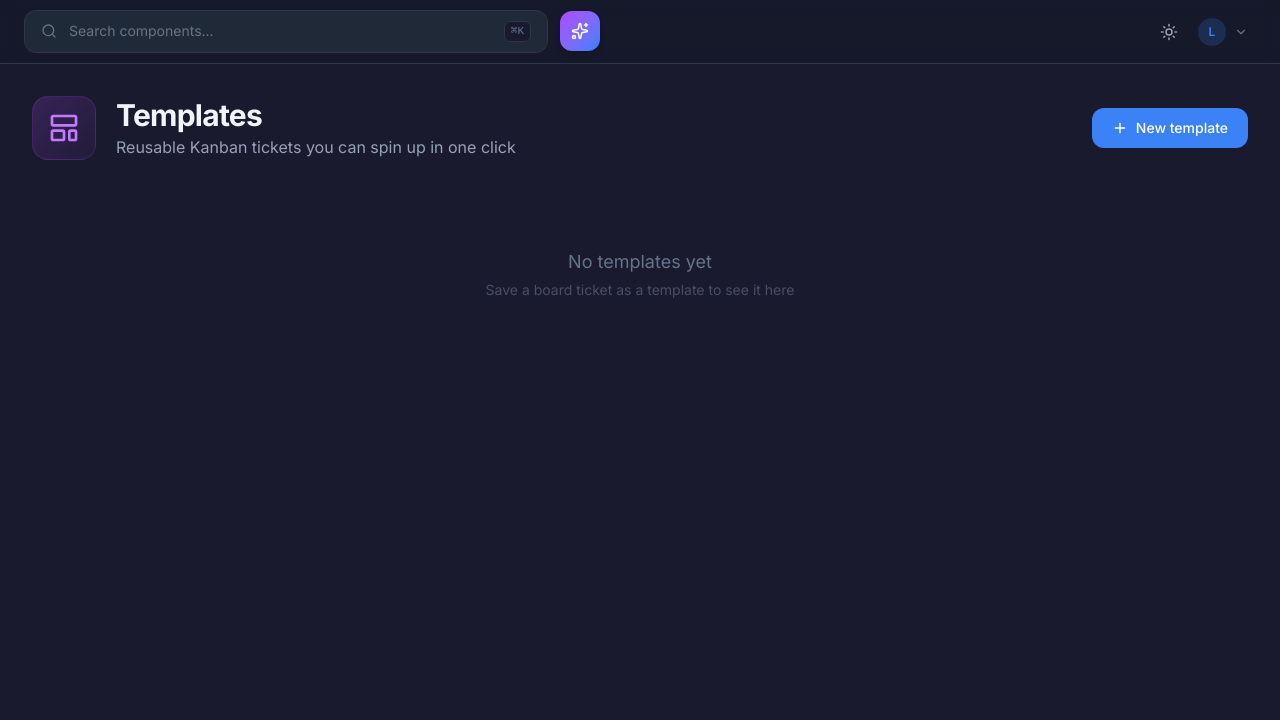
TemplatesPage › + New template flow › renders the new card in the grid after a successful insert
Expected: the text "No templates yet" is shown, [568,251,712,272]
Step 1. Click the button "New template" → [1170, 128], box [1092,108,1248,148]
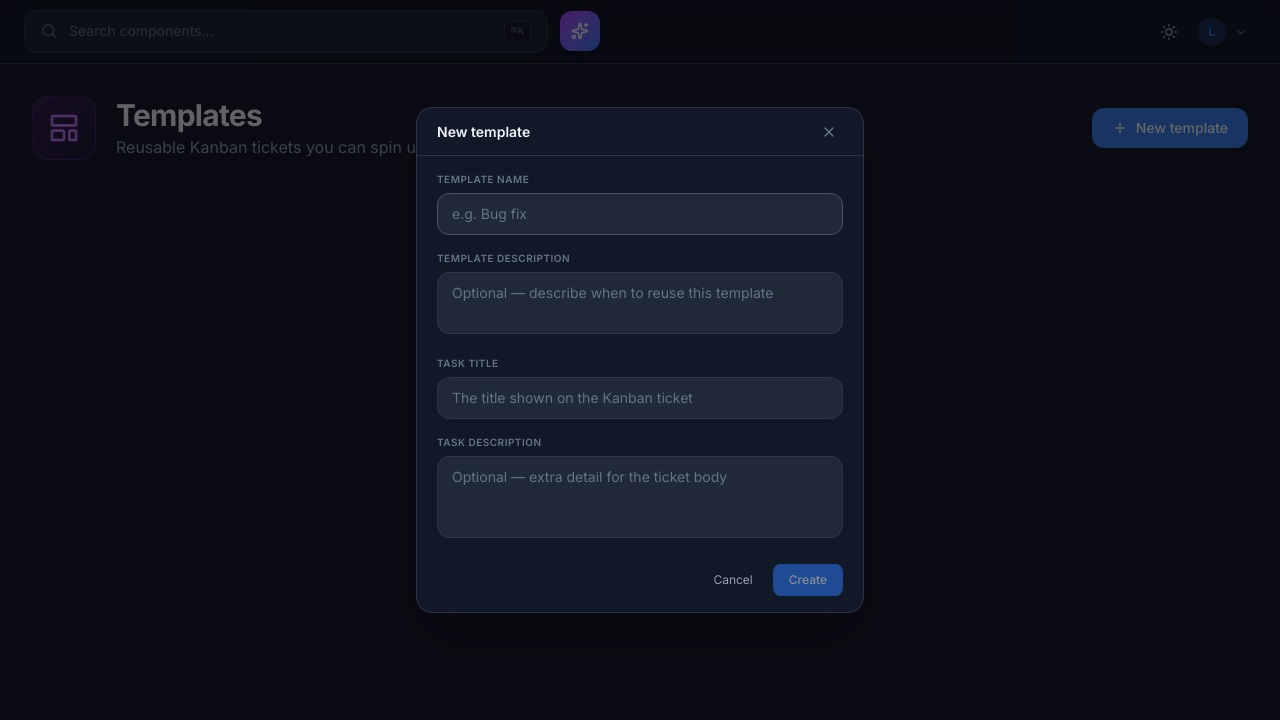
Step 2. Type "Fresh template" into the field labelled "Template name" → [640, 214], box [437,193,843,235]
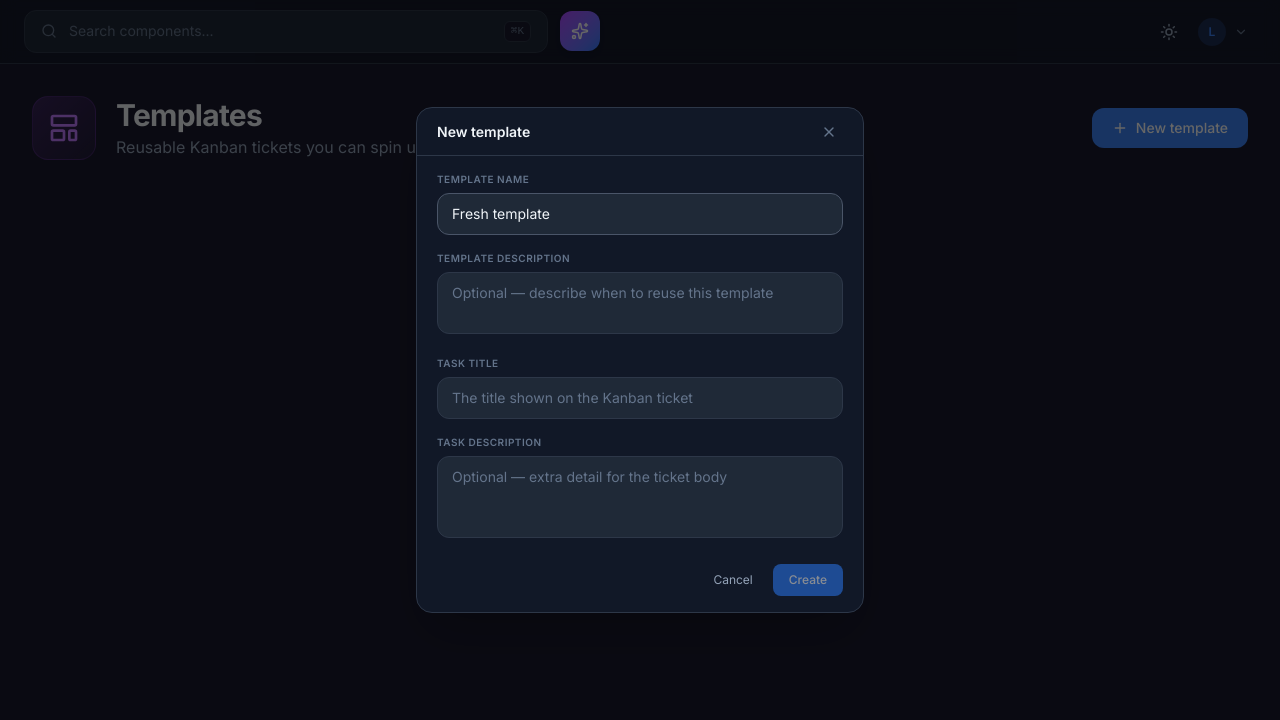
Step 3. Type "Some title" into the field labelled "Task title" → [640, 398], box [437,377,843,419]
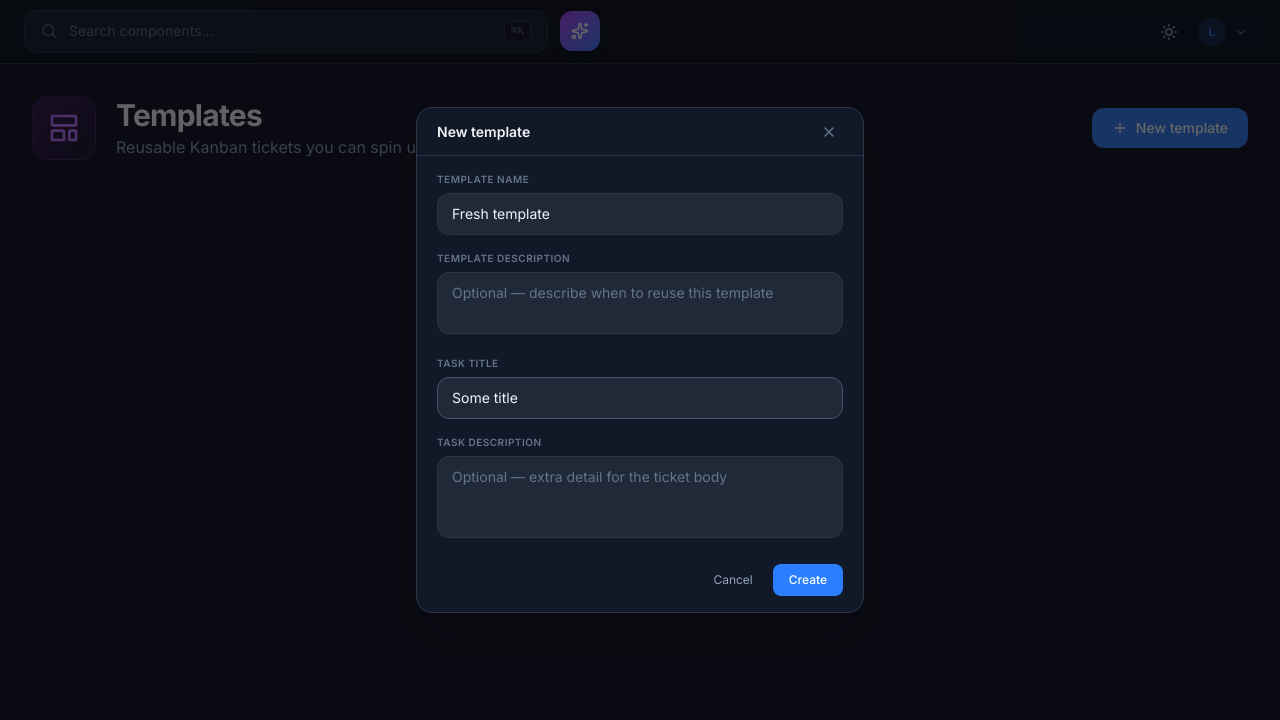
Step 4. Click the button "Create" → [808, 580], box [773,564,843,596]
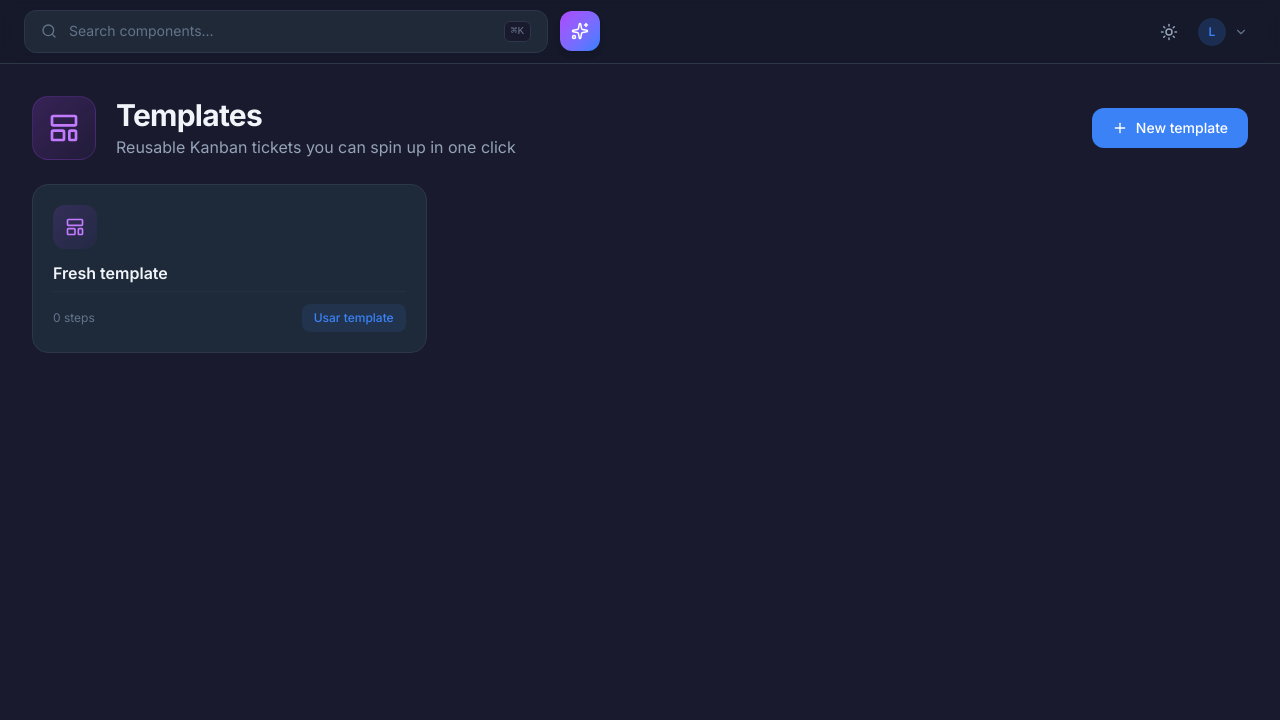
Now the heading "Fresh template" is shown, box [53,263,168,283]
Now the text "No templates yet" is gone
